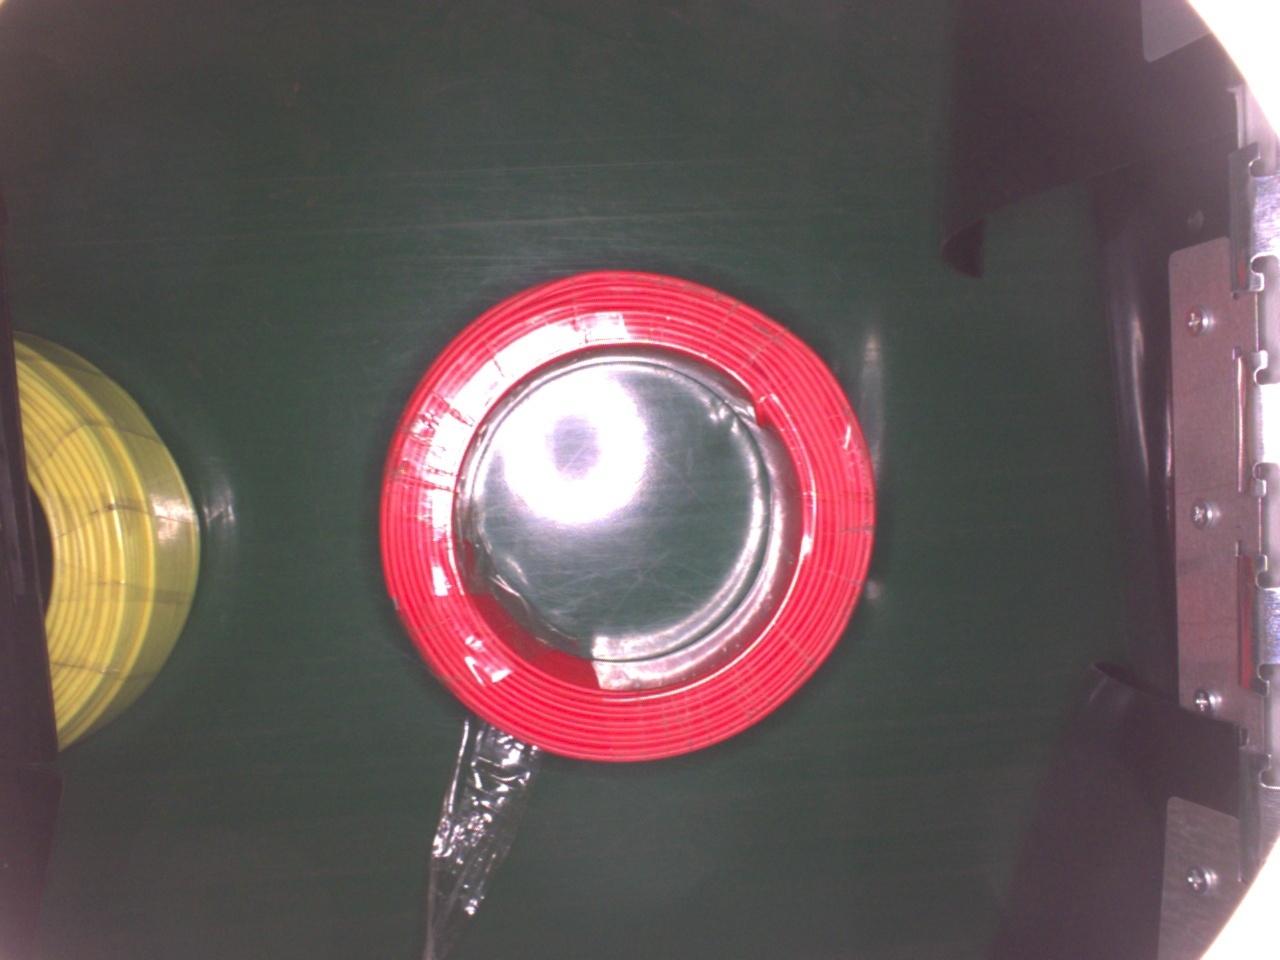red: (381, 267, 880, 764)
yellow: (8, 332, 198, 743)
